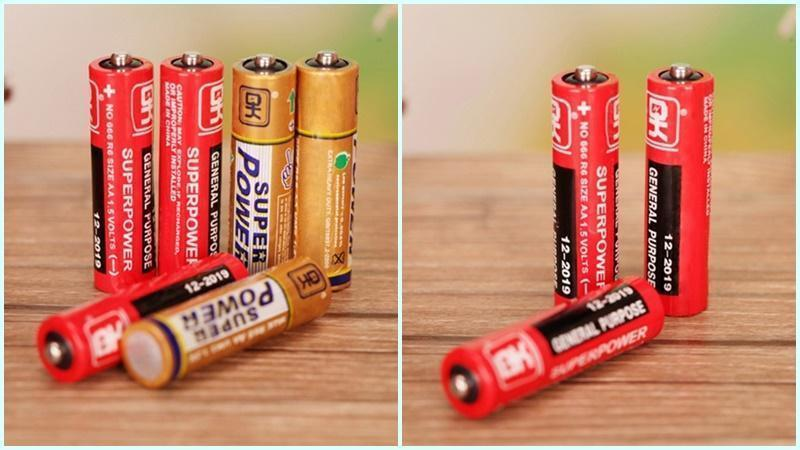AA: (438, 273, 666, 422), (117, 256, 335, 389), (642, 60, 716, 320), (548, 63, 624, 305), (87, 48, 159, 294), (291, 49, 360, 293), (228, 52, 297, 278), (157, 49, 225, 277)
